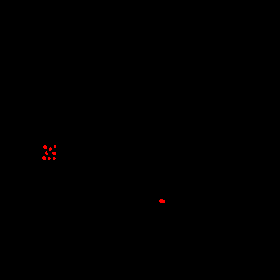Target: (159, 199, 165, 203), (43, 145, 47, 149), (42, 156, 46, 160), (49, 147, 52, 151), (45, 151, 48, 155), (52, 152, 56, 155), (48, 157, 51, 160), (53, 157, 56, 160), (54, 145, 56, 148)
